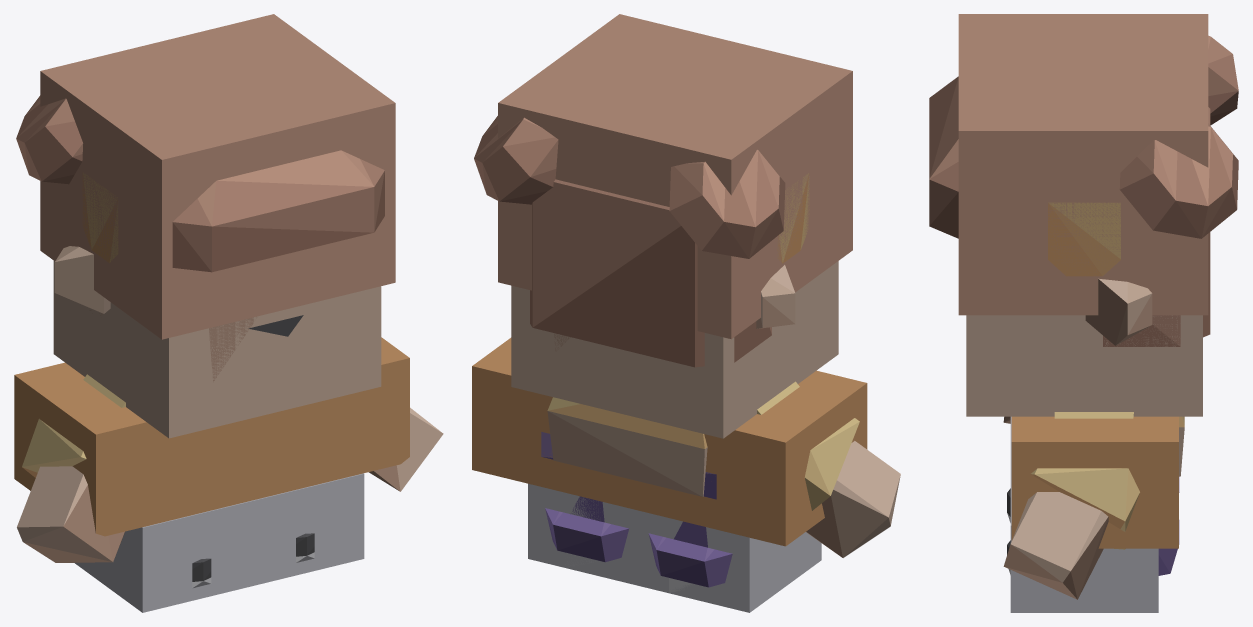
Rendered from person.female-b.glb.
3 renders of one model, left to right at view 1: azimuth 30°, elevation 25°; view 2: azimuth 150°, elevation 25°; view 3: azimuth 270°, elevation 25°, orthographic. The views are drawn at different scales.
Parts seen in each view (by area): view 1: far, near; view 2: far, near; view 3: far, near.
Boxes of the visible parts, x1,y1,x2,y2 form: far: (14,14,409,612); near: (16,95,443,588); far: (472,14,867,612); near: (474,116,900,592); far: (958,14,1208,612); near: (929,35,1238,599).
Bounding box in the file's own units: 1.56 × 1.7 × 0.9836.
